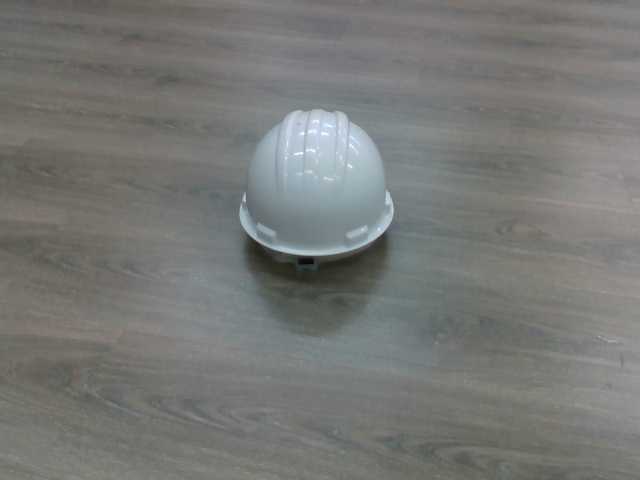helmet: (235, 105, 400, 272)
